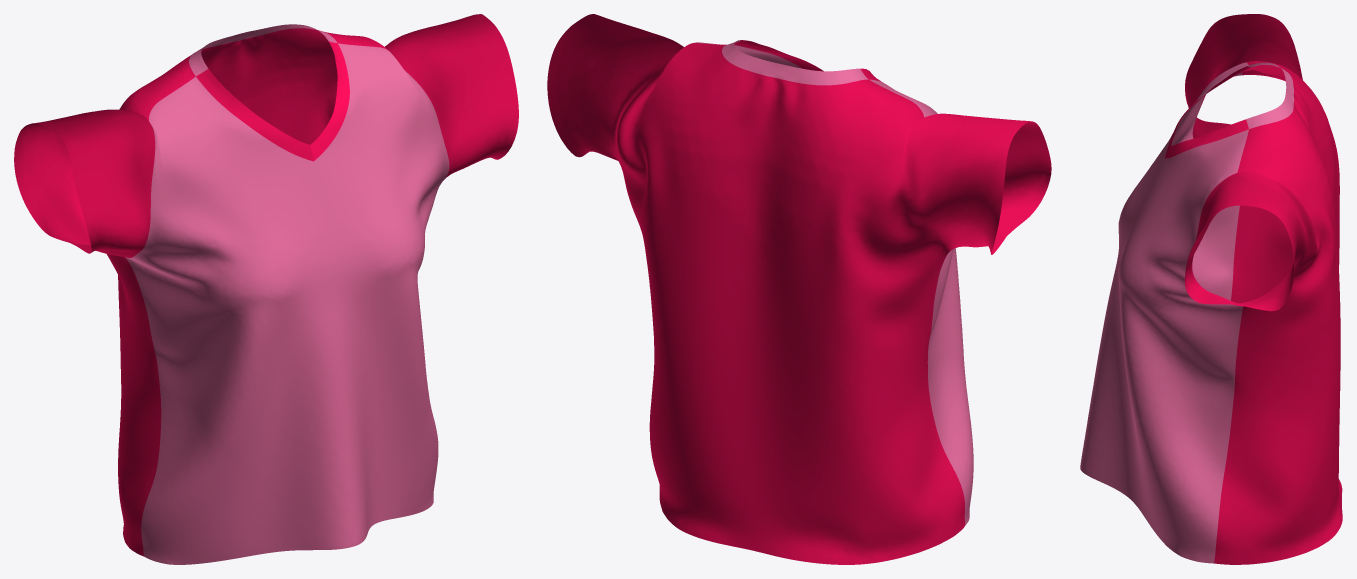
Rendered from female_pink_tshirt_L.glb.
3 views of the same model, side by side, from view 1: azimuth 30°, elevation 25°; view 2: azimuth 150°, elevation 25°; view 3: azimuth 270°, elevation 25° (orthographic). The views are drawn at different scales.
Parts seen in each view (by area): view 1: V_neck_T_shirt_horizontal_sleeves; view 2: V_neck_T_shirt_horizontal_sleeves; view 3: V_neck_T_shirt_horizontal_sleeves.
Part boxes in pixels (x1,y1,x2,y2): V_neck_T_shirt_horizontal_sleeves: (14,14,518,564); V_neck_T_shirt_horizontal_sleeves: (547,14,1051,564); V_neck_T_shirt_horizontal_sleeves: (1080,14,1342,564).
Size of the model in its own units: 0.5767 by 0.5637 by 0.3191.
